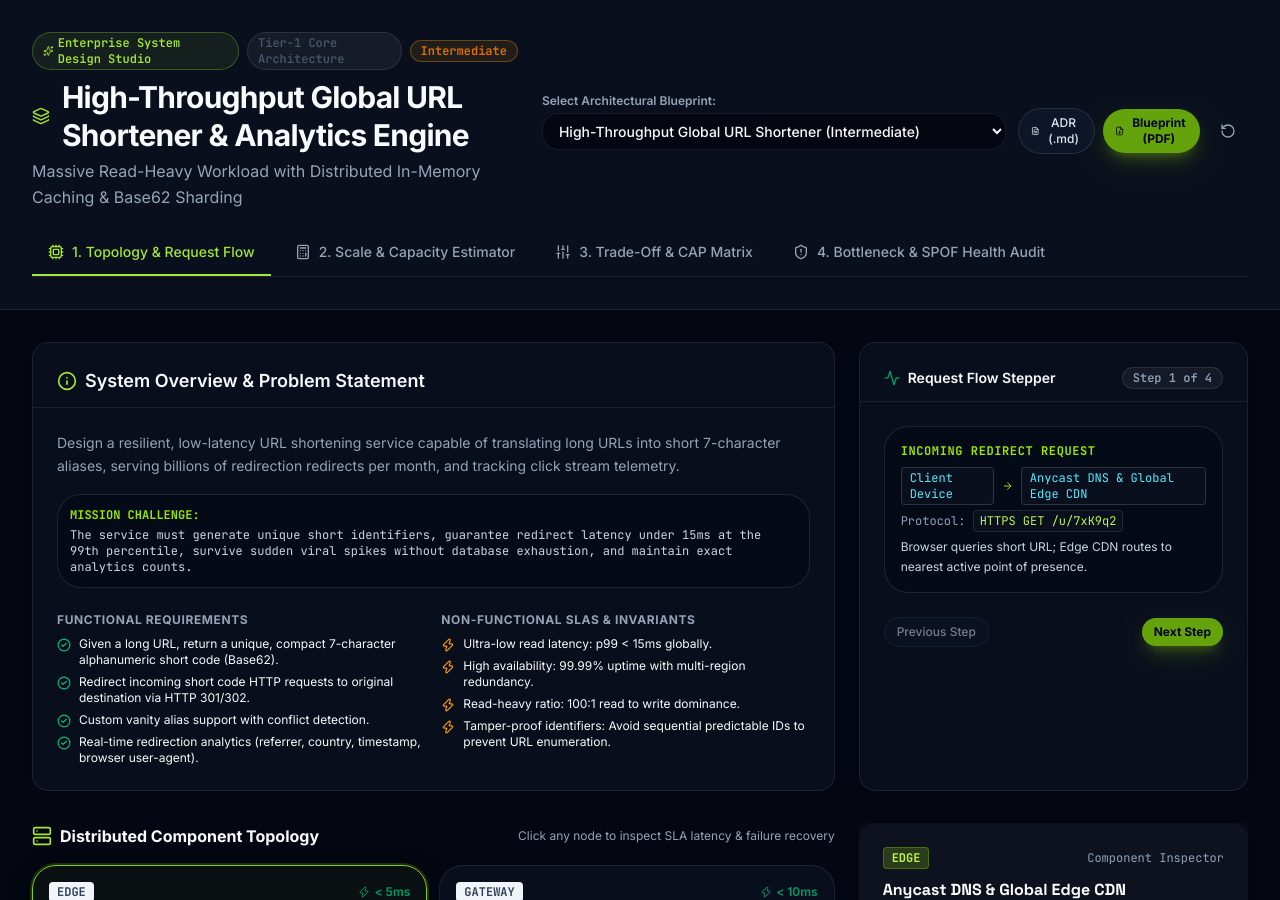
Test case: SystemDesignStudioPage › switches blueprints when selecting from dropdown
Select "Distributed Key-Value Store with Tunable Consistency (Expert)" in the dropdown labelled "Select Architectural Blueprint:" at [774, 131], box x1=542 y1=112 x2=1006 y2=150
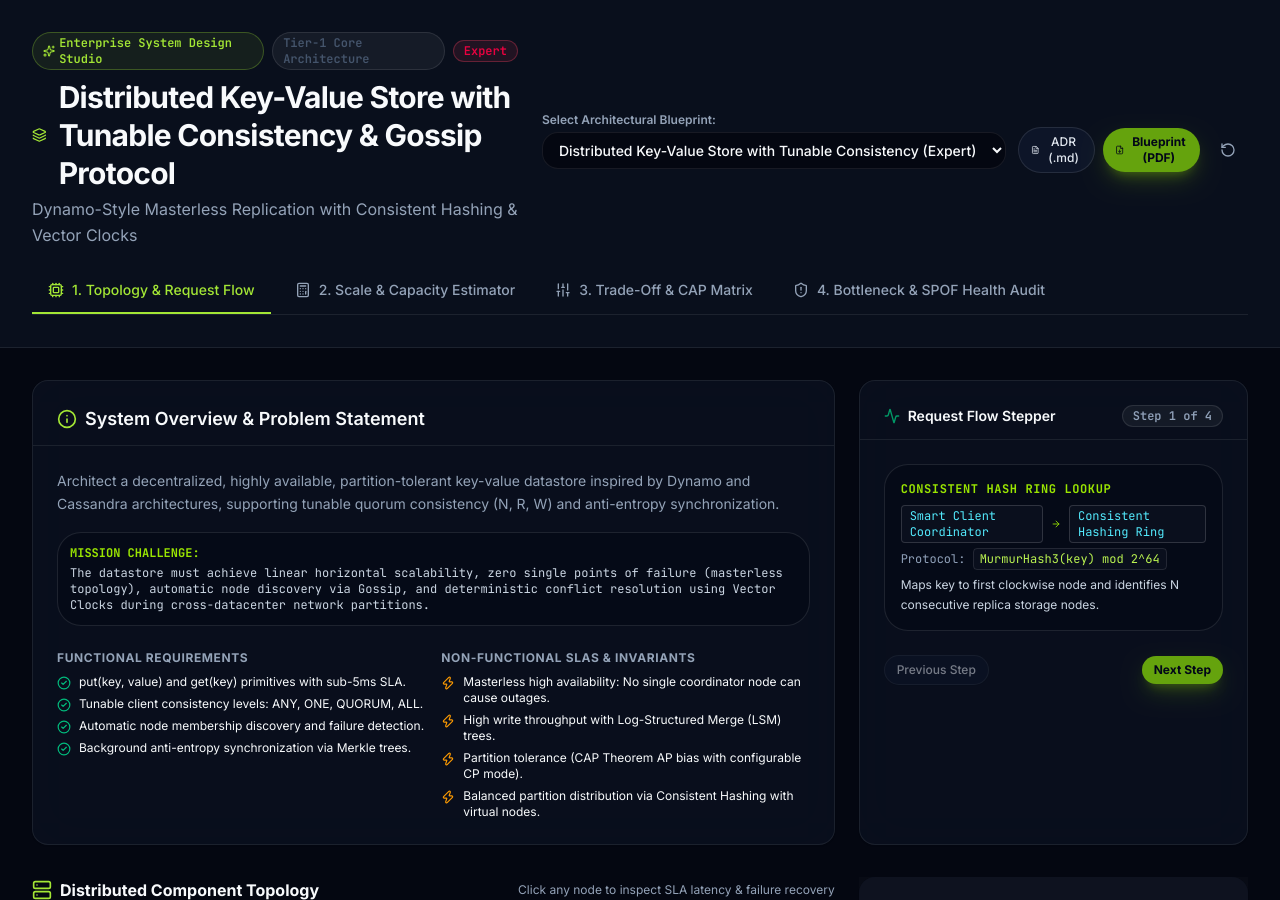
Check: the heading "Distributed Key-Value Store with Tunable Consistency" is shown, box x1=32 y1=78 x2=518 y2=192
Check: the text "Consistent Hashing Ring" is shown, box x1=1069 y1=505 x2=1206 y2=543
